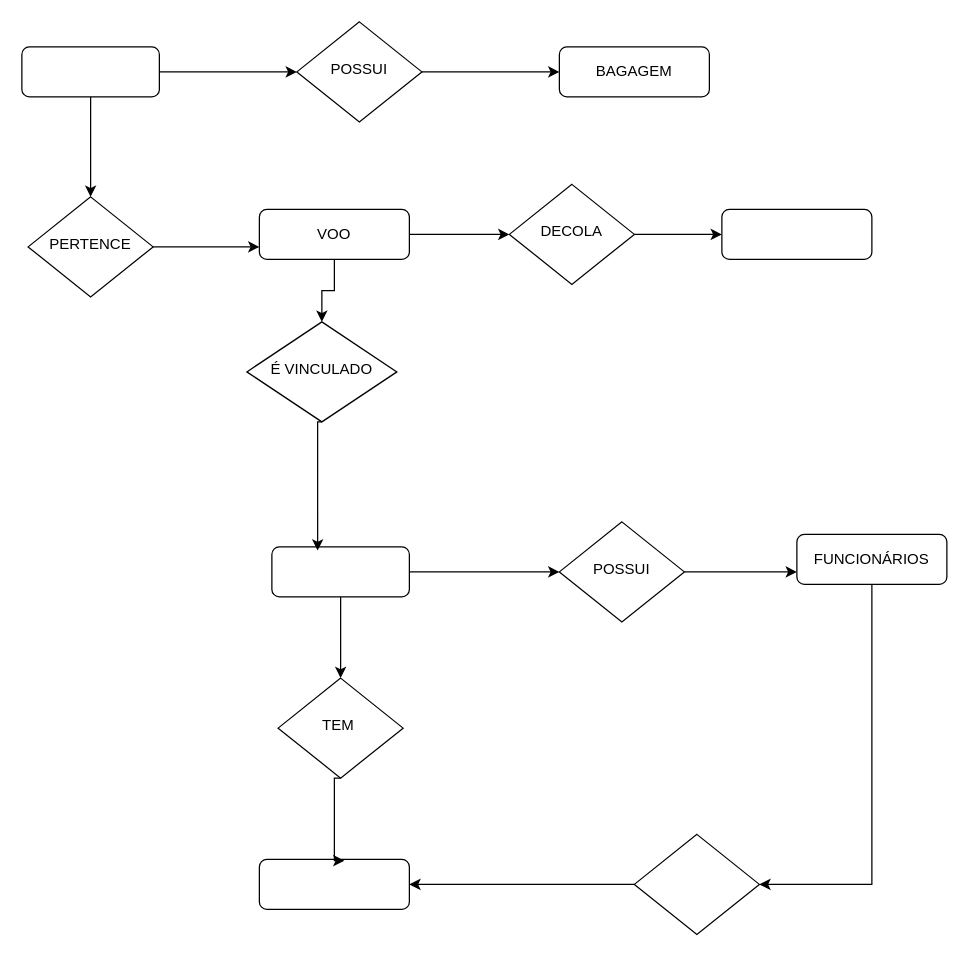
Some shapes in this 969 by 956 pixel diagram are drawn without their labels. The centre of each missing label's shape, as x and y in pixels:
AERONAVE: the point at 333,883
COMPANHIA AÉREA: the point at 340,571
PASSAGEIRO: the point at 90,71
PORTÃO (TERMINAL): the point at 796,233
TRABALHA: the point at 696,883
